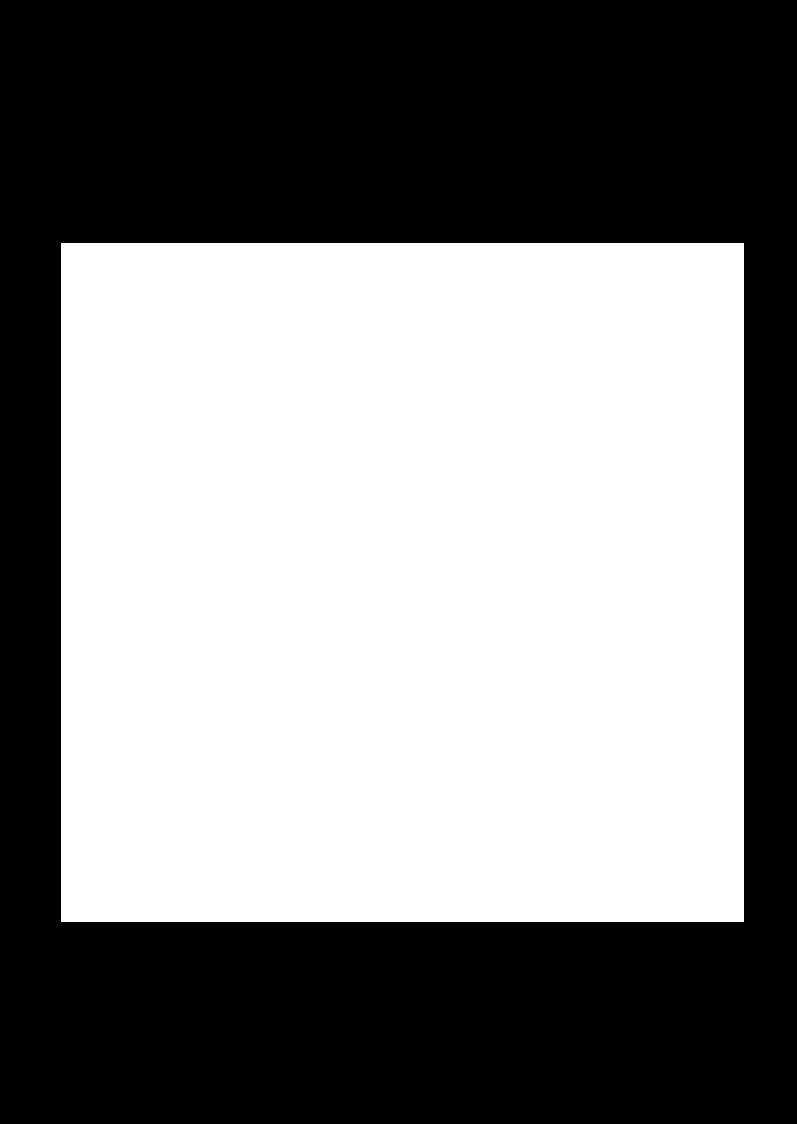table: (61, 243, 743, 921)
